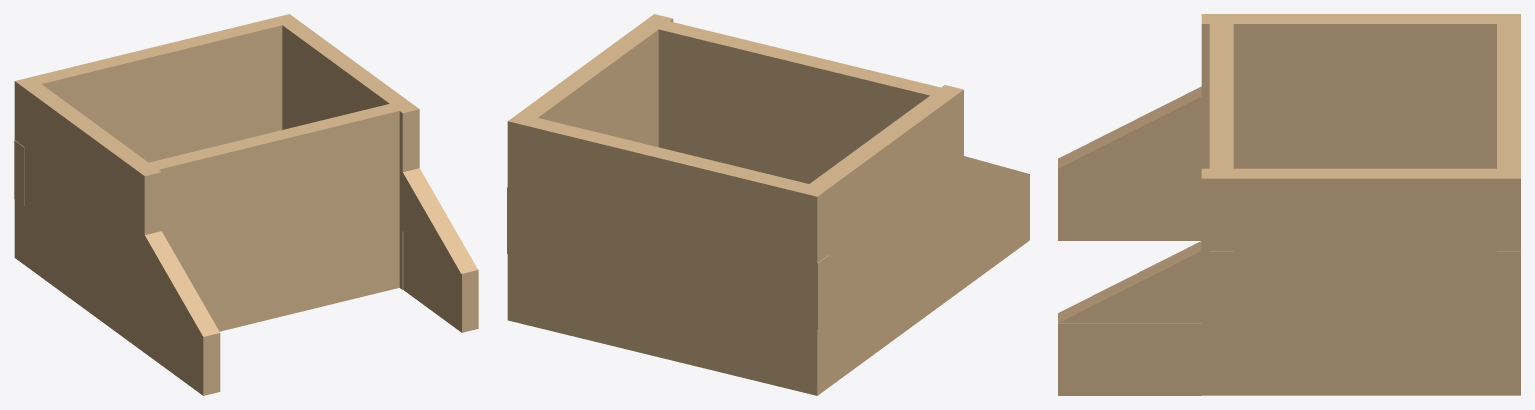
File: tinker.obj
The picture shows the model from 3 angles, left to right: view 1: azimuth 30°, elevation 25°; view 2: azimuth 150°, elevation 25°; view 3: azimuth 270°, elevation 25°; orthographic projection. The views are drawn at different scales.
Parts seen in each view (by area): view 1: obj_0; view 2: obj_0; view 3: obj_0.
Boxes of the visible parts, x1,y1,x2,y2 form: obj_0: (14,14,478,395); obj_0: (507,14,1029,395); obj_0: (1058,14,1520,395).
Size of the model in its own units: 245 by 150 by 290.
